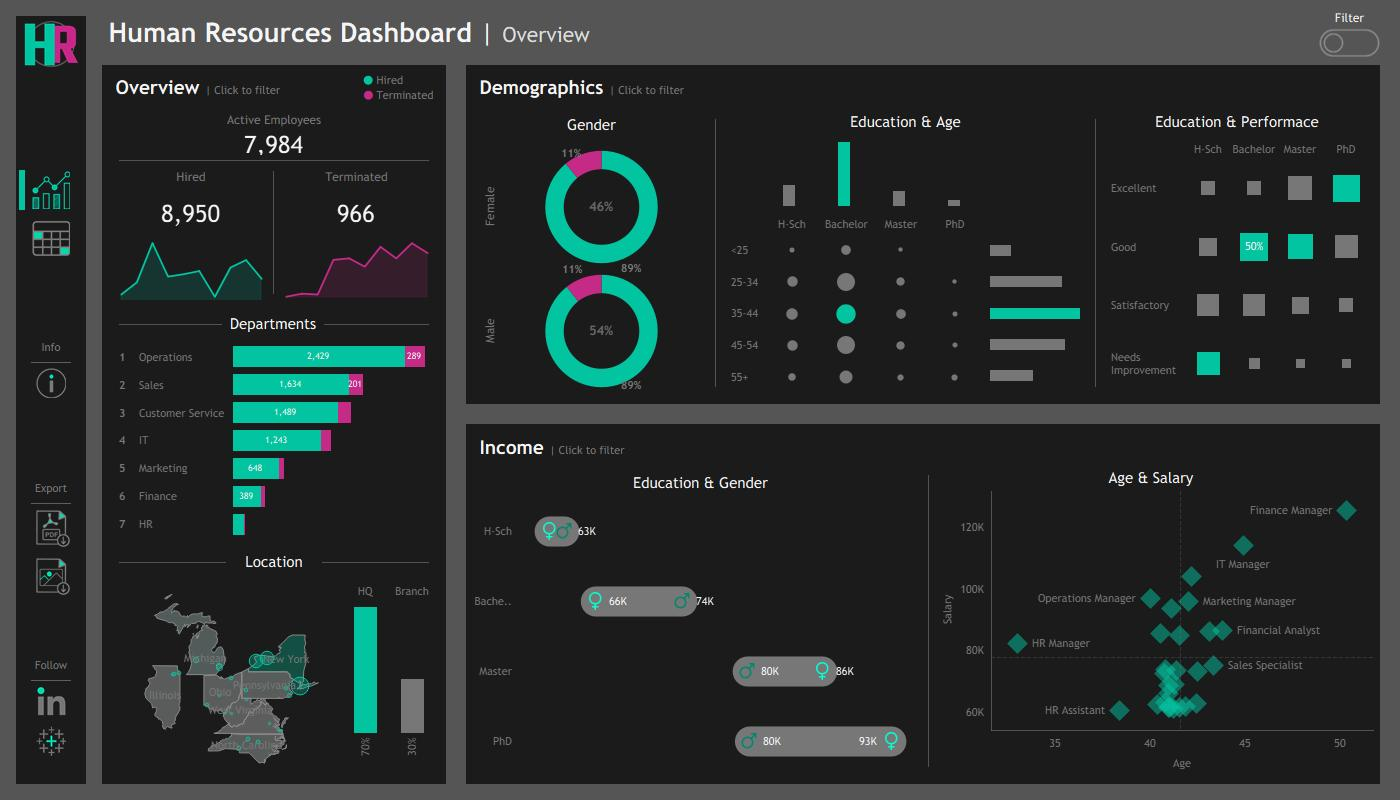

Layout of this report page (visuals, bound fields, positions):
{"tool":"tableau","page":{"name":"HR | Summary","canvas":[1400,800],"ordinal":1},"visuals":[{"type":"blank","box":[88,0,1314,317]},{"type":"text","box":[102,0,677,65]},{"type":"blank","box":[779,0,601,65]},{"type":"filter","title":"Gender vs Education Level","param":"[federated.02szybf15uv3e911yps9m0aptj6y].[none:Gender:nk]","box":[701,8,150,49]},{"type":"filter","title":"Gender vs Education Level","param":"[federated.02szybf15uv3e911yps9m0aptj6y].[none:Calculation_408983172148387851:nk","box":[851,8,150,49]},{"type":"filter","title":"Gender vs Education Level","param":"[federated.02szybf15uv3e911yps9m0aptj6y].[none:Calculation_408983172100587525:nk","box":[1001,8,150,49]},{"type":"filter","title":"Gender vs Education Level","param":"[federated.02szybf15uv3e911yps9m0aptj6y].[yr:Hiredate:ok]","box":[1151,8,149,49]},{"type":"text","box":[1315,8,69,20]},{"type":"image","param":"Image/Logo.png","box":[16,16,70,55]},{"type":"dashboard-object","box":[1318,22,62,42]},{"type":"blank","box":[16,71,70,90]},{"type":"text","box":[109,72,330,31]},{"type":"text","box":[473,72,900,32]},{"type":"text","box":[361,74,100,30]},{"type":"text","box":[109,103,330,28]},{"type":"text","box":[473,109,237,32]},{"type":"blank","box":[715,109,1,288.5]},{"type":"text","box":[721,109,369,26]},{"type":"blank","box":[1095,109,1,288.5]},{"type":"text","box":[1101,109,272,26]},{"type":"worksheet","title":"BAN Active","mark":"Text","box":[109,131,330,29]},{"type":"worksheet","title":"Education Levels","mark":"Bar","rows":["Calculation_408983172091547648"],"cols":["Education Level"],"box":[721,135,369,75]},{"type":"worksheet","title":"Education vs Performance","mark":"Square","rows":["Performance Rating"],"cols":["Education Level"],"box":[1101,135,272,262.5]},{"type":"worksheet","title":"Gender","mark":"Pie","rows":["Gender"],"cols":["Calculation_408983172106977288","Calculation_408983172106977288"],"box":[473,141,237,256.5]},{"type":"blank","box":[109,160,330,1]},{"type":"text","box":[109,161,164,32]},{"type":"blank","box":[273,161,1,143]},{"type":"text","box":[274,161,164.9,32]},{"type":"blank","box":[19,170,6,40]},{"type":"dashboard-object","box":[26,171,50,38]},{"type":"worksheet","title":"BAN Hired","mark":"Text","box":[109,193,164,42]},{"type":"worksheet","title":"BAN Terminated","mark":"Text","box":[274,193,164.9,42]},{"type":"blank","box":[26,209,50,10]},{"type":"worksheet","title":"Age vs Education","mark":"Circle","rows":["Calculation_408983172109221898"],"cols":["Education Level"],"box":[721,210,265,187.5]},{"type":"worksheet","title":"Age Groups","mark":"Bar","rows":["Calculation_408983172109221898"],"cols":["Calculation_408983172091547648"],"box":[986,210,102,187.5]},{"type":"dashboard-object","box":[26,219,50,38]},{"type":"worksheet","title":"Hired by Year","mark":"Line","rows":["Calculation_408983172091547648","Calculation_408983172091547648"],"cols":["Hiredate"],"box":[109,235,164,69]},{"type":"worksheet","title":"Terminated by Year","mark":"Line","rows":["Calculation_408983172091711489","Calculation_408983172091711489"],"cols":["Termdate"],"box":[274,235,164.9,69]},{"type":"blank","box":[26,257,50,80]},{"type":"blank","box":[119,309,103,30]},{"type":"text","box":[222,309,102,30]},{"type":"blank","box":[324,309,105,30]},{"type":"text","box":[88,317,1314,226]},{"type":"text","box":[26,337,50,20]},{"type":"worksheet","title":"Departments","mark":"Bar","rows":["Calculation_408983172096684036","Department"],"cols":["Calculation_408983172091547648"],"box":[109,339,330,203]},{"type":"blank","box":[26,357,50,11]},{"type":"dashboard-object","box":[26,368,50,30]},{"type":"blank","box":[26,398,50,80]},{"type":"text","box":[473,431.5,900,34]},{"type":"blank","box":[928,465.5,1,311.5]},{"type":"text","box":[929,465.5,444,26]},{"type":"text","box":[473,470.5,455,26]},{"type":"text","box":[26,478,50,20]},{"type":"worksheet","title":"Age vs Salary","mark":"Shape","rows":["Salary"],"cols":["Calculation_408983172108771337"],"box":[929,491.5,444,285.5]},{"type":"worksheet","title":"Gender vs Education Level","mark":"Square","rows":["Education Level"],"cols":["Salary","Salary"],"box":[473,496.5,455,280.5]},{"type":"blank","box":[26,498,50,11]},{"type":"dashboard-object","box":[26,509,50,38]},{"type":"blank","box":[88,543,1314,257]},{"type":"blank","box":[26,547,50,10]},{"type":"blank","box":[119,547,107.3,30]},{"type":"text","box":[226.3,547,95.3,30]},{"type":"blank","box":[321.7,547,107.3,30]},{"type":"dashboard-object","box":[26,557,50,38]},{"type":"worksheet","title":"Map States","mark":"Automatic","box":[109,577,229,200]},{"type":"worksheet","title":"Location","mark":"Bar","rows":["Calculation_408983172091547648"],"cols":["Calculation_408983172100587525","Calculation1"],"box":[338,577,101,200]},{"type":"blank","box":[26,595,50,60]},{"type":"text","box":[26,655,50,20]},{"type":"blank","box":[26,675,50,11]},{"type":"image","param":"Image/contact-linkedin.png","box":[26,686,50,30]},{"type":"blank","box":[26,716,50,10]},{"type":"image","param":"Image/contact-public.png","box":[26,726,50,30]}]}

Visuals, with their boxes on the page's 1400x800 design canvas (x1, y1, x2, y2). These are canvas units, not pixel positions in the 1400x800 screenshot, which may show the page scaled, cropped or inside an application window:
blank: bbox(88, 0, 1402, 317)
text: bbox(102, 0, 779, 65)
blank: bbox(779, 0, 1380, 65)
"Gender vs Education Level" filter: bbox(701, 8, 851, 57)
"Gender vs Education Level" filter: bbox(851, 8, 1001, 57)
"Gender vs Education Level" filter: bbox(1001, 8, 1151, 57)
"Gender vs Education Level" filter: bbox(1151, 8, 1300, 57)
text: bbox(1315, 8, 1384, 28)
image: bbox(16, 16, 86, 71)
dashboard-object: bbox(1318, 22, 1380, 64)
blank: bbox(16, 71, 86, 161)
text: bbox(109, 72, 439, 103)
text: bbox(473, 72, 1373, 104)
text: bbox(361, 74, 461, 104)
text: bbox(109, 103, 439, 131)
text: bbox(473, 109, 710, 141)
blank: bbox(715, 109, 716, 398)
text: bbox(721, 109, 1090, 135)
blank: bbox(1095, 109, 1096, 398)
text: bbox(1101, 109, 1373, 135)
"BAN Active" worksheet (Text marks): bbox(109, 131, 439, 160)
"Education Levels" worksheet (Bar marks): bbox(721, 135, 1090, 210)
"Education vs Performance" worksheet (Square marks): bbox(1101, 135, 1373, 398)
"Gender" worksheet (Pie marks): bbox(473, 141, 710, 398)
blank: bbox(109, 160, 439, 161)
text: bbox(109, 161, 273, 193)
blank: bbox(273, 161, 274, 304)
text: bbox(274, 161, 439, 193)
blank: bbox(19, 170, 25, 210)
dashboard-object: bbox(26, 171, 76, 209)
"BAN Hired" worksheet (Text marks): bbox(109, 193, 273, 235)
"BAN Terminated" worksheet (Text marks): bbox(274, 193, 439, 235)
blank: bbox(26, 209, 76, 219)
"Age vs Education" worksheet (Circle marks): bbox(721, 210, 986, 398)
"Age Groups" worksheet (Bar marks): bbox(986, 210, 1088, 398)
dashboard-object: bbox(26, 219, 76, 257)
"Hired by Year" worksheet (Line marks): bbox(109, 235, 273, 304)
"Terminated by Year" worksheet (Line marks): bbox(274, 235, 439, 304)
blank: bbox(26, 257, 76, 337)
blank: bbox(119, 309, 222, 339)
text: bbox(222, 309, 324, 339)
blank: bbox(324, 309, 429, 339)
text: bbox(88, 317, 1402, 543)
text: bbox(26, 337, 76, 357)
"Departments" worksheet (Bar marks): bbox(109, 339, 439, 542)
blank: bbox(26, 357, 76, 368)
dashboard-object: bbox(26, 368, 76, 398)
blank: bbox(26, 398, 76, 478)
text: bbox(473, 432, 1373, 466)
blank: bbox(928, 466, 929, 777)
text: bbox(929, 466, 1373, 492)
text: bbox(473, 470, 928, 496)
text: bbox(26, 478, 76, 498)
"Age vs Salary" worksheet (Shape marks): bbox(929, 492, 1373, 777)
"Gender vs Education Level" worksheet (Square marks): bbox(473, 496, 928, 777)
blank: bbox(26, 498, 76, 509)
dashboard-object: bbox(26, 509, 76, 547)
blank: bbox(88, 543, 1402, 800)
blank: bbox(26, 547, 76, 557)
blank: bbox(119, 547, 226, 577)
text: bbox(226, 547, 322, 577)
blank: bbox(322, 547, 429, 577)
dashboard-object: bbox(26, 557, 76, 595)
"Map States" worksheet: bbox(109, 577, 338, 777)
"Location" worksheet (Bar marks): bbox(338, 577, 439, 777)
blank: bbox(26, 595, 76, 655)
text: bbox(26, 655, 76, 675)
blank: bbox(26, 675, 76, 686)
image: bbox(26, 686, 76, 716)
blank: bbox(26, 716, 76, 726)
image: bbox(26, 726, 76, 756)
